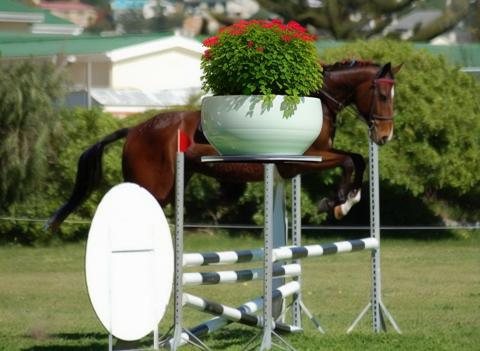horse: (123, 59, 406, 217)
pottedplant: (200, 18, 323, 163)
